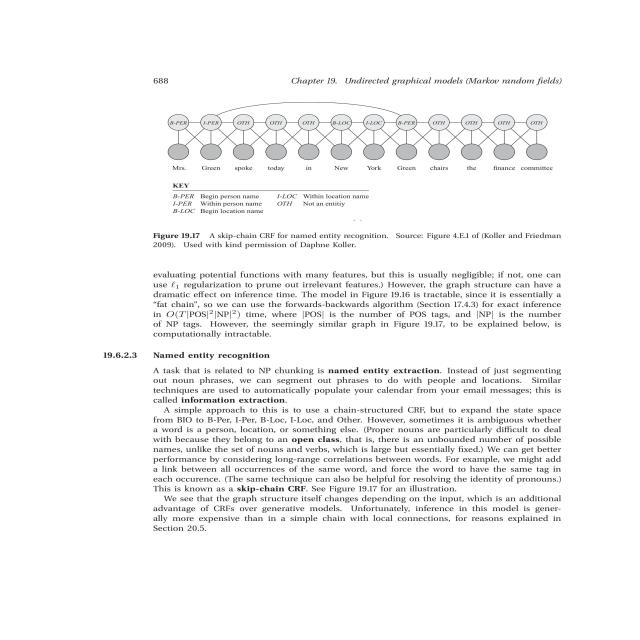diagram: (114, 98, 640, 248)
